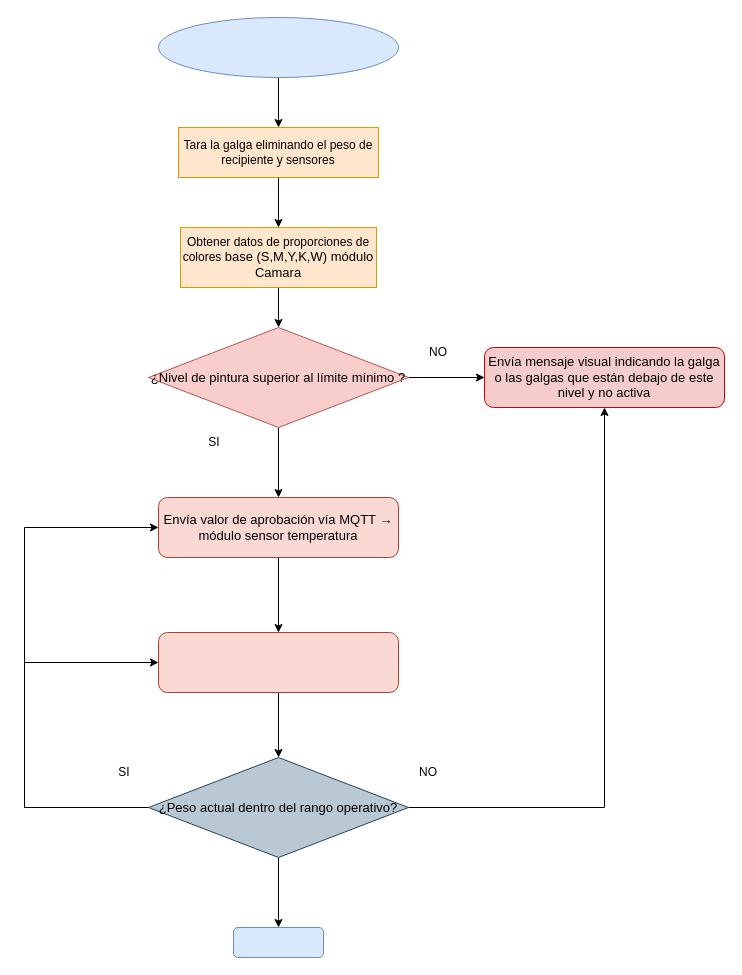
Image size: 742x975. Some labels were removed from this diagram. Here are the shapes that lost their labels. From the top down, the box of each, then its label:
(158, 16, 398, 78): Inicio: Activación de Galga
(158, 632, 398, 692): Envía valor proporcional de peso vía MQTT → módulo mezclador
(232, 926, 324, 958): Fin
